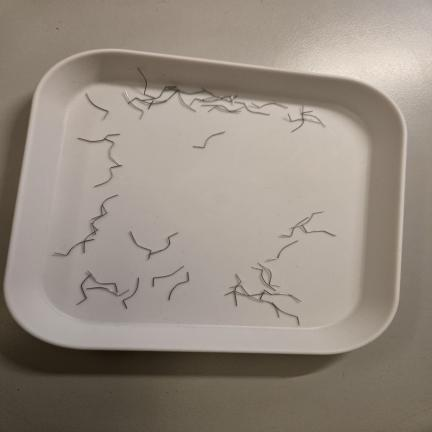probe: (152, 266, 184, 286), (86, 93, 109, 119), (168, 272, 189, 300), (268, 241, 298, 260), (193, 131, 225, 148), (122, 277, 139, 308), (252, 103, 287, 109)
